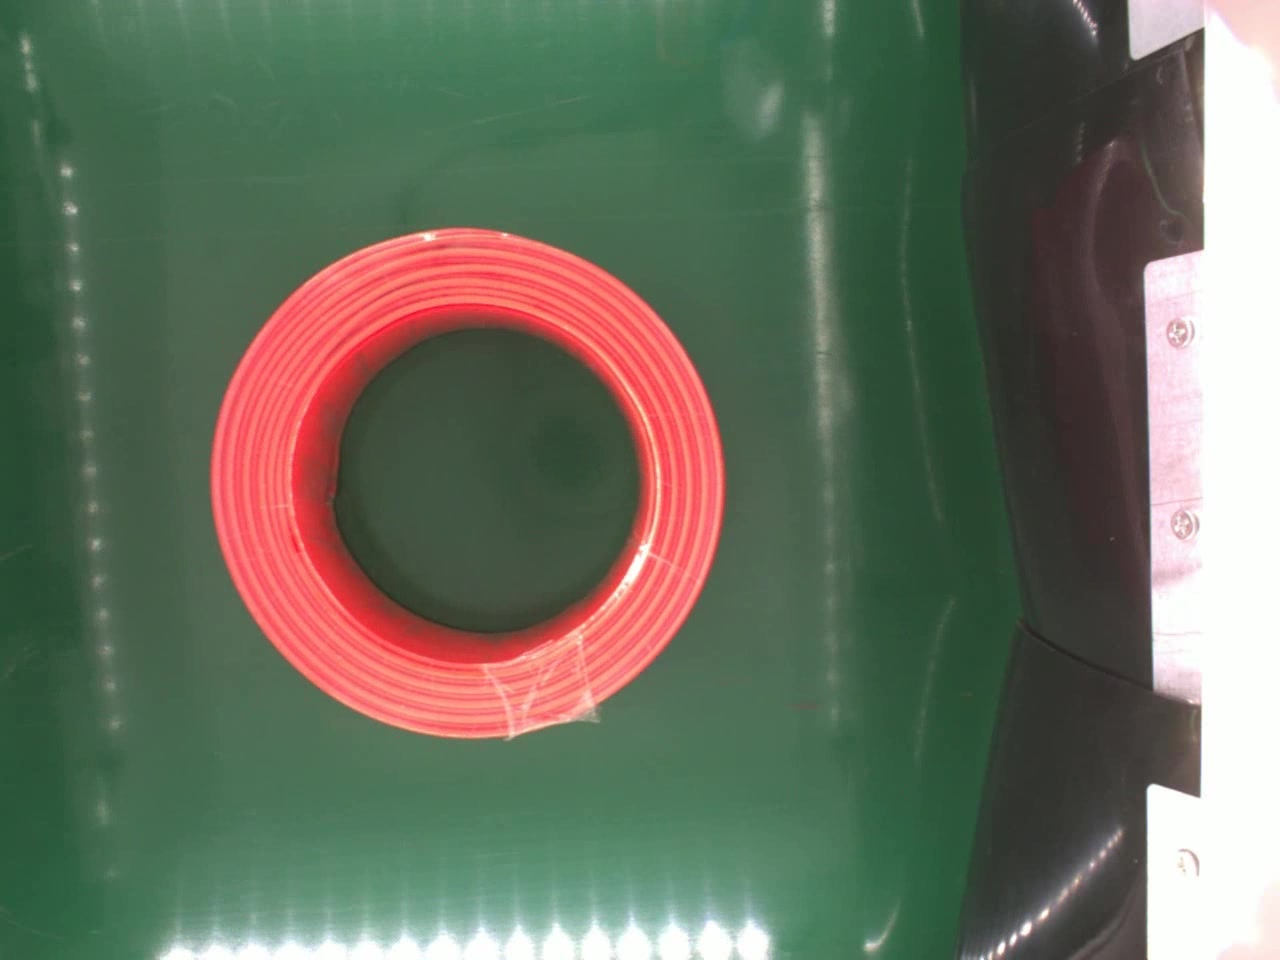red: (209, 225, 726, 741)
